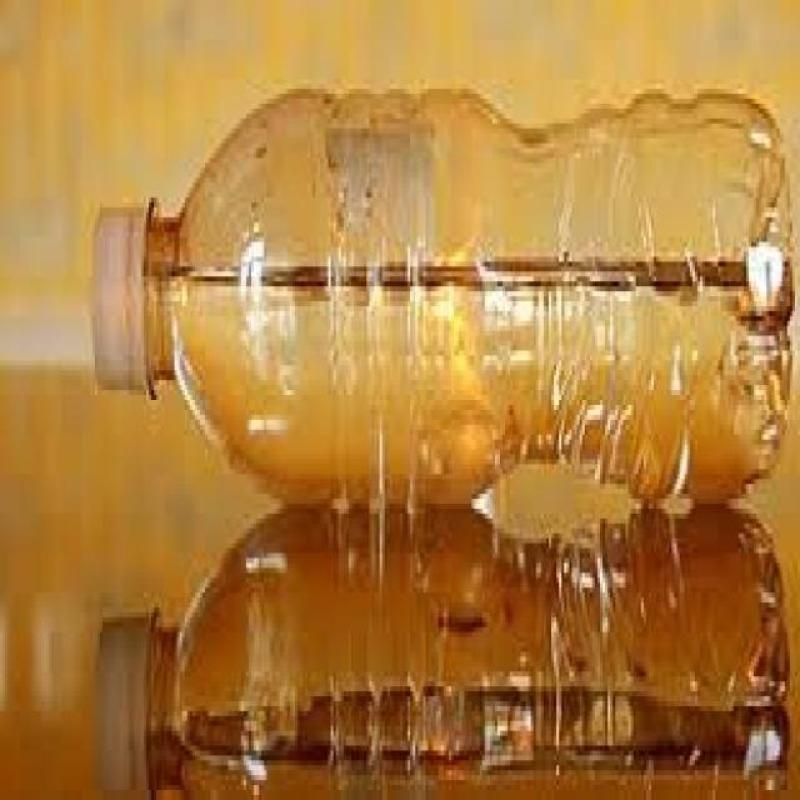botella: (96, 86, 794, 526)
